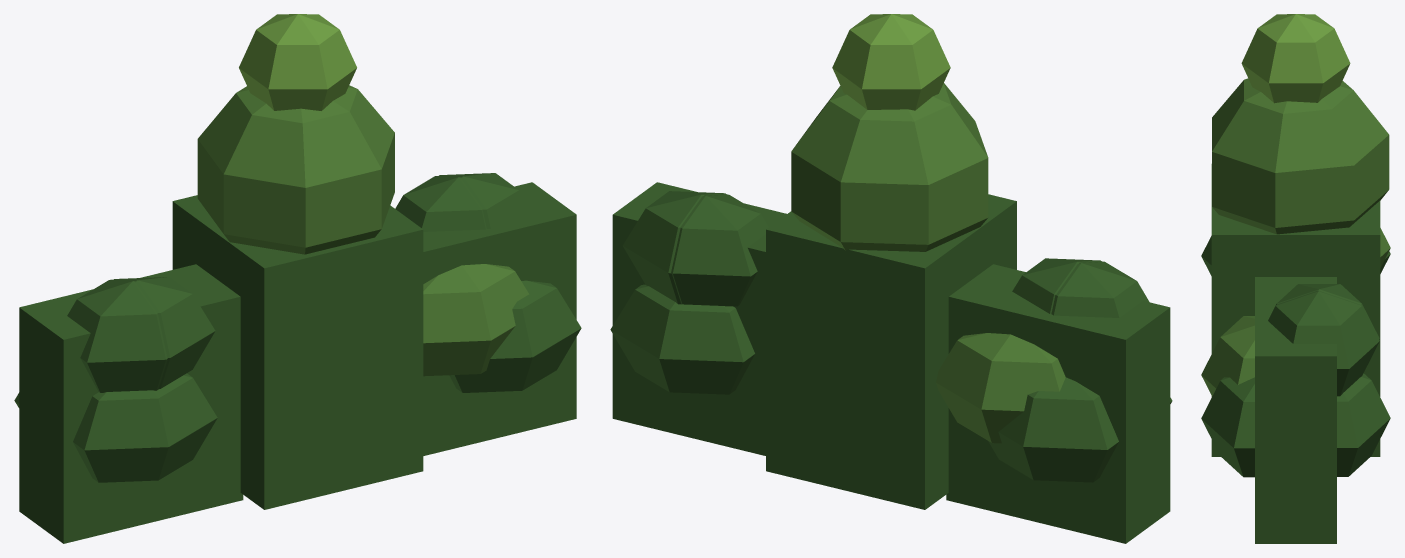
Rendered from boxhedge_straight.glb.
The picture shows the model from 3 angles, left to right: view 1: azimuth 30°, elevation 25°; view 2: azimuth 150°, elevation 25°; view 3: azimuth 270°, elevation 25°; orthographic projection. The views are drawn at different scales.
Parts seen in each view (by area): view 1: fence_boxhedge_straight; view 2: fence_boxhedge_straight; view 3: fence_boxhedge_straight.
Boxes of the visible parts, x1,y1,x2,y2 form: fence_boxhedge_straight: (14, 14, 581, 543); fence_boxhedge_straight: (610, 14, 1172, 543); fence_boxhedge_straight: (1201, 14, 1390, 543).
Size of the model in its own units: 2 by 1.68 by 0.696.
